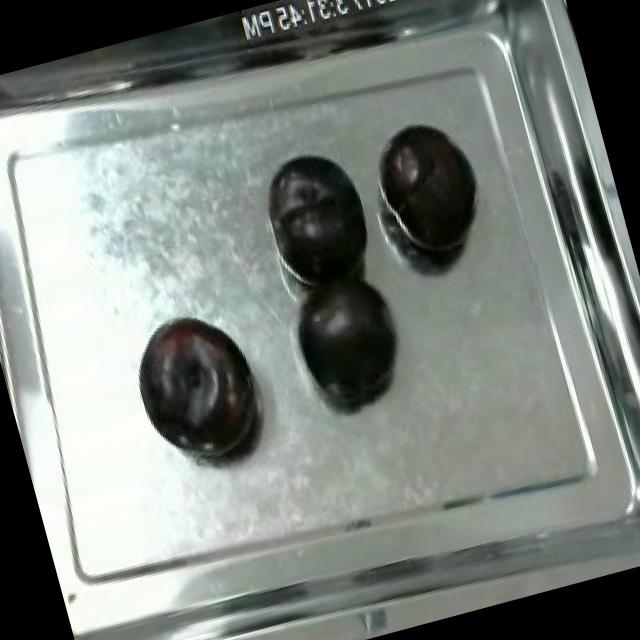Fruit: (122, 297, 274, 478), (255, 138, 386, 298), (282, 264, 416, 414), (368, 113, 496, 269)
